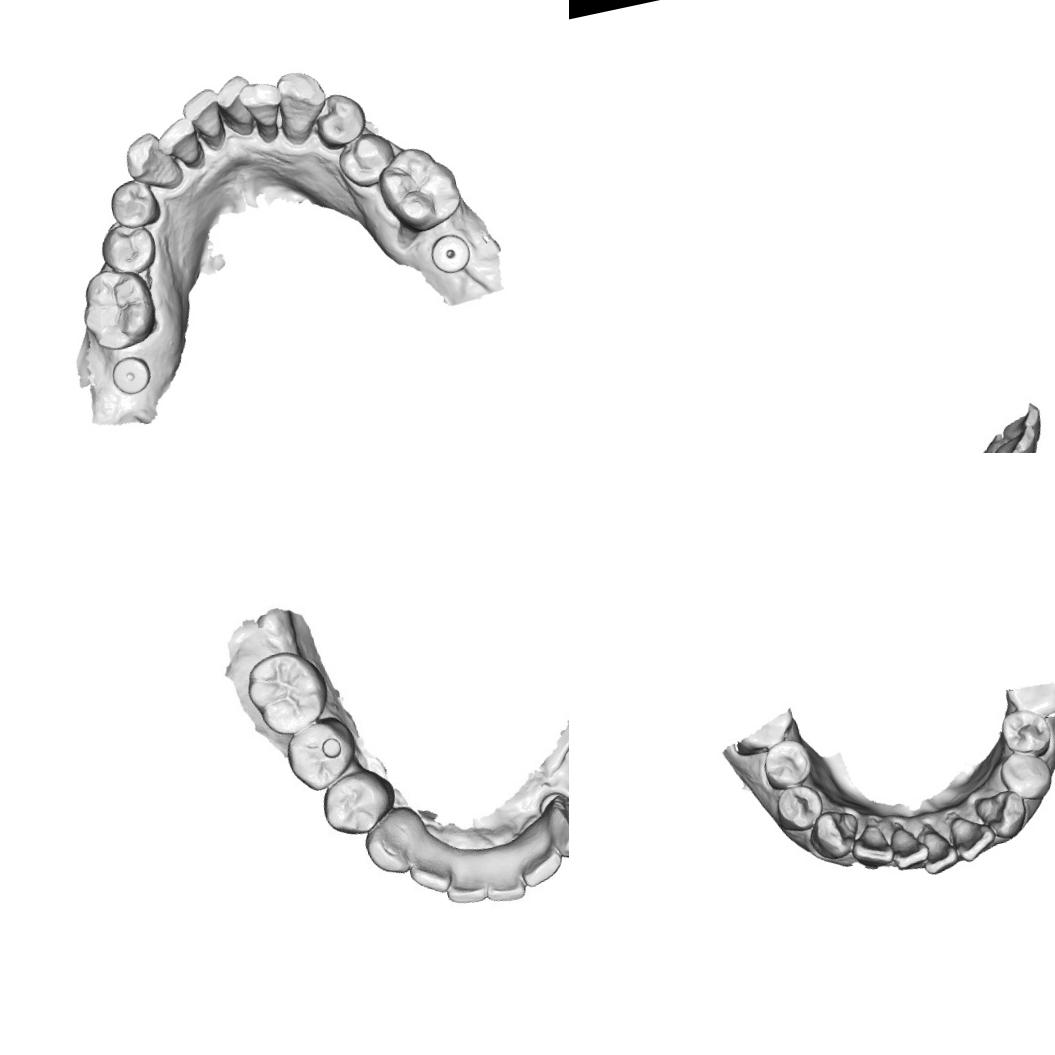canine: (270, 65, 334, 148), (120, 126, 188, 198), (358, 810, 422, 883), (972, 783, 1032, 843), (810, 804, 864, 867), (542, 788, 569, 864)
implant: (426, 230, 474, 278), (106, 352, 154, 398)
incisor: (234, 76, 292, 147), (883, 815, 941, 878), (178, 85, 230, 155), (211, 73, 260, 142), (400, 842, 458, 900), (152, 114, 207, 175), (947, 804, 999, 866), (912, 818, 962, 882), (848, 816, 899, 875), (478, 858, 532, 910), (514, 837, 566, 890), (440, 864, 490, 912), (996, 401, 1046, 444), (990, 423, 1043, 453)
molar: (237, 642, 335, 743), (371, 139, 468, 238), (73, 261, 163, 357)
premolar: (278, 712, 366, 798), (314, 763, 404, 841), (333, 127, 400, 193), (95, 216, 161, 280), (756, 734, 824, 795), (310, 87, 371, 152), (991, 703, 1055, 764), (996, 742, 1055, 802), (105, 174, 164, 233), (772, 779, 827, 836)
